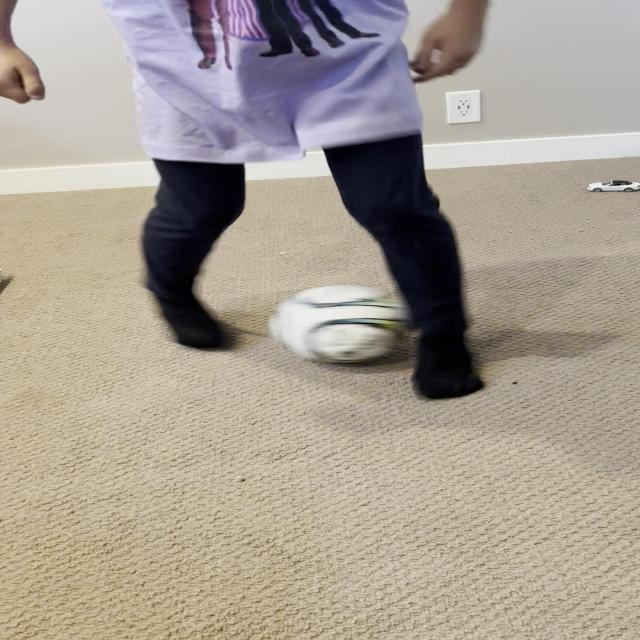Soccer Ball: (270, 284, 413, 363)
